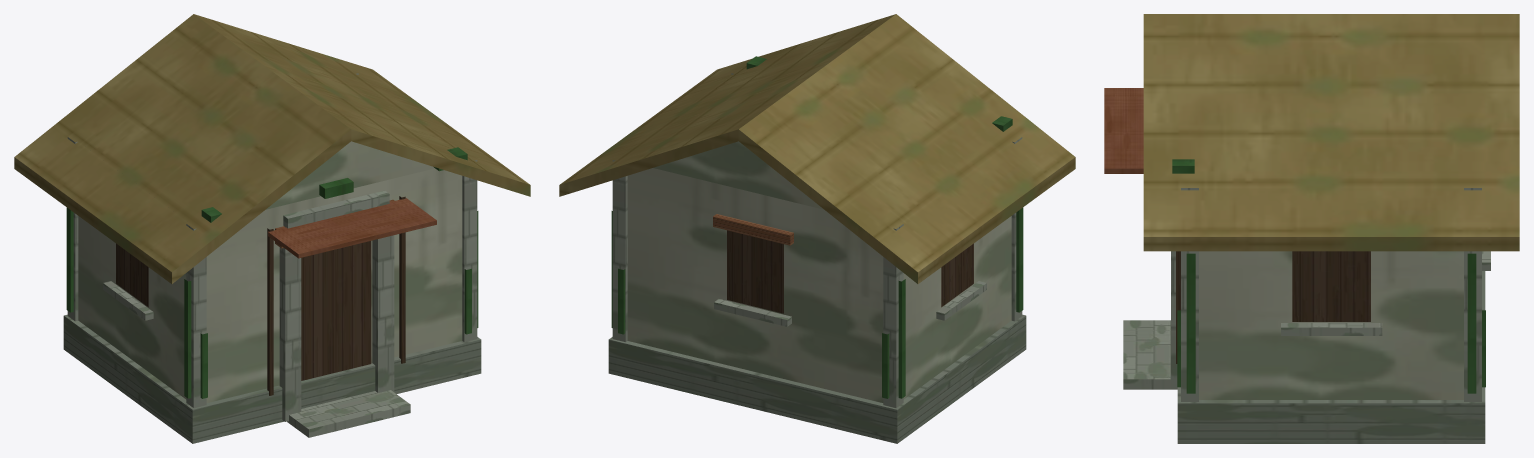
The model's file is ae_jungle_stone_small_booth_lod0.glb.
3 views of the same model, side by side, from view 1: azimuth 30°, elevation 25°; view 2: azimuth 150°, elevation 25°; view 3: azimuth 270°, elevation 25° (orthographic). The views are drawn at different scales.
Visible parts, largest first — view 1: ae_jungle_stone_small_booth_lod0; view 2: ae_jungle_stone_small_booth_lod0; view 3: ae_jungle_stone_small_booth_lod0.
Boxes of the visible parts, <box> form: ae_jungle_stone_small_booth_lod0: <box>14,14,530,443</box>; ae_jungle_stone_small_booth_lod0: <box>559,14,1075,443</box>; ae_jungle_stone_small_booth_lod0: <box>1104,14,1519,443</box>.
Bounding box in the file's own units: 4.4 × 3.4 × 3.7.
Materials: 1 (1 with a texture image).
